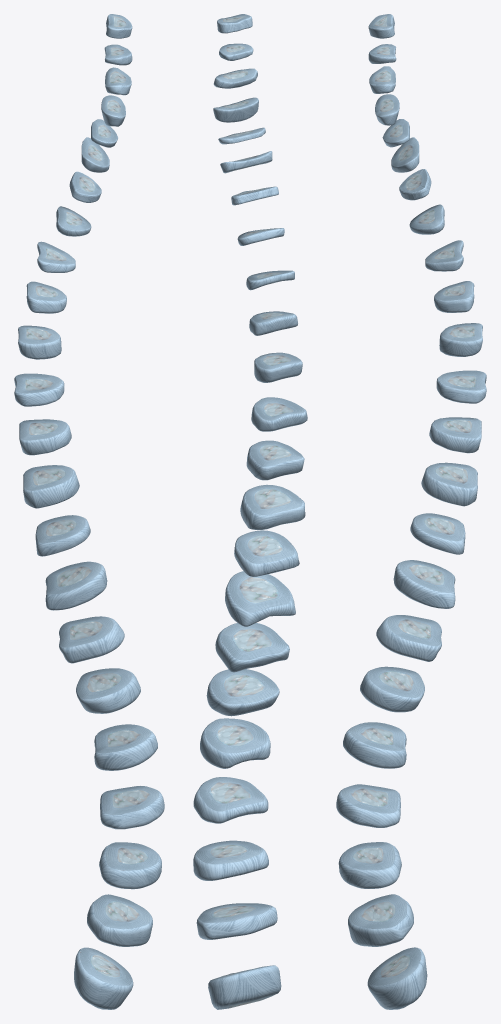
Rendered from absorbers.glb.
The picture shows the model from 3 angles, left to right: view 1: azimuth 90°, elevation 25°; view 2: azimuth 210°, elevation 25°; view 3: azimuth 270°, elevation 25°; orthographic projection.
Visible parts, largest first — view 1: disk_23, disk_22, disk_21, disk_19, disk_17, disk_18, disk_20, Disk_16, disk_14, disk_15, disk_13, disk_12 (+11 smaller); view 2: Disk_16, disk_19, disk_17, disk_18, disk_20, disk_21, disk_22, disk_15, disk_14, disk_23, disk_13, disk_12 (+11 smaller); view 3: disk_23, disk_22, disk_21, disk_19, disk_17, disk_18, disk_20, Disk_16, disk_14, disk_15, disk_13, disk_12 (+11 smaller).
Part boxes in pixels (<box>): disk_23: <box>74,947,133,1009</box>; disk_22: <box>87,894,152,946</box>; disk_21: <box>99,842,161,889</box>; disk_19: <box>94,724,157,770</box>; disk_17: <box>59,616,124,663</box>; disk_18: <box>76,668,140,713</box>; disk_20: <box>100,786,164,829</box>; Disk_16: <box>45,561,107,610</box>; disk_14: <box>23,465,79,508</box>; disk_15: <box>35,515,90,556</box>; disk_13: <box>19,419,71,455</box>; disk_12: <box>14,373,64,406</box>; Disk_16: <box>225,571,295,626</box>; disk_19: <box>200,718,270,768</box>; disk_17: <box>215,623,289,672</box>; disk_18: <box>206,669,279,716</box>; disk_20: <box>193,777,268,823</box>; disk_21: <box>193,840,268,880</box>; disk_22: <box>196,903,277,939</box>; disk_15: <box>234,530,299,576</box>; disk_14: <box>240,484,305,529</box>; disk_23: <box>208,965,281,1009</box>; disk_13: <box>246,440,304,480</box>; disk_12: <box>251,397,307,431</box>; disk_23: <box>367,947,427,1009</box>; disk_22: <box>348,894,413,946</box>; disk_21: <box>338,842,401,888</box>; disk_19: <box>343,722,406,768</box>; disk_17: <box>376,615,441,661</box>; disk_18: <box>360,666,424,712</box>; disk_20: <box>336,784,400,827</box>; Disk_16: <box>393,560,455,608</box>; disk_14: <box>421,462,477,506</box>; disk_15: <box>410,513,465,554</box>; disk_13: <box>429,417,481,453</box>; disk_12: <box>436,370,486,403</box>.
Bounding box in the file's own units: 33.1 × 430 × 59.59.
2 materials, 2 textured.
